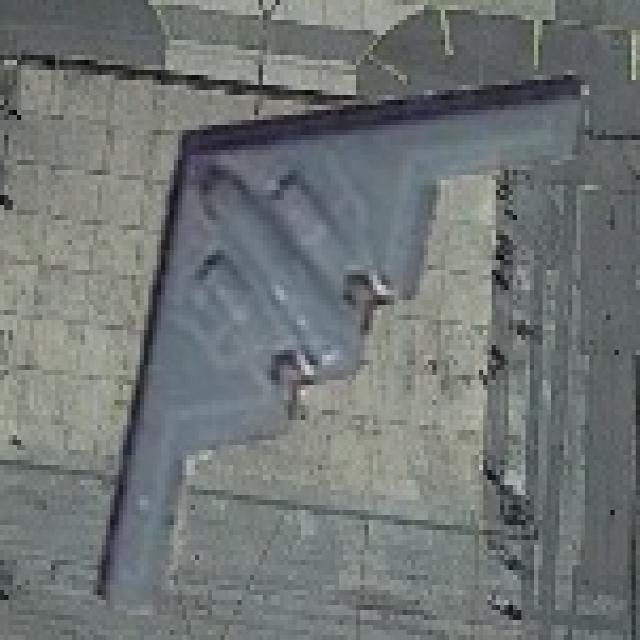B-2_TopDown: (85, 60, 593, 615)
